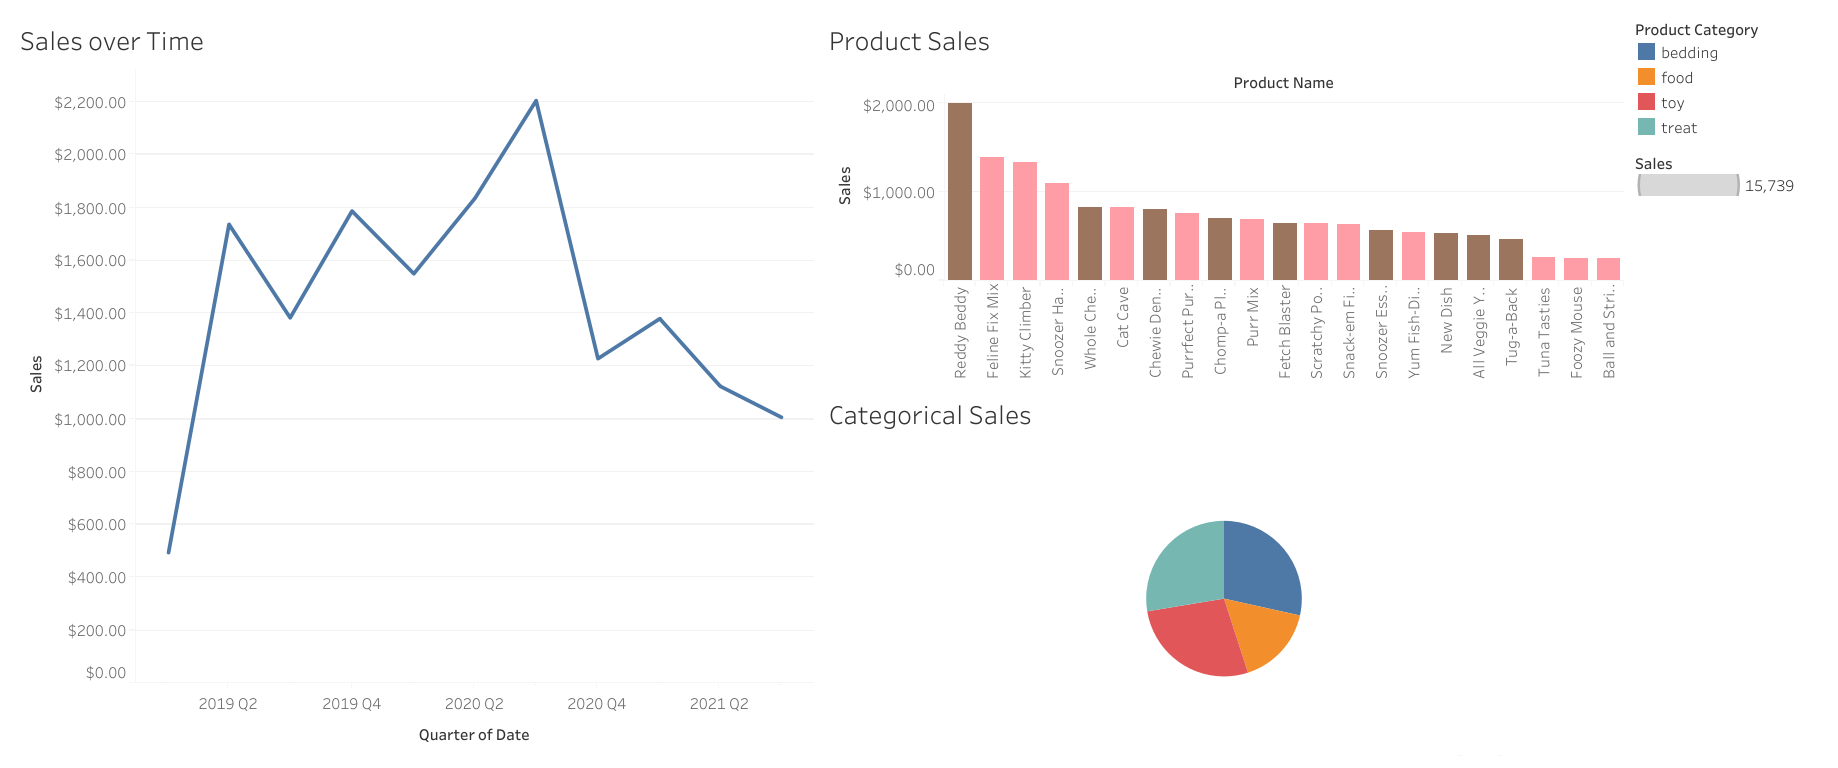

The page's visual inventory and layout, read from the dashboard file:
{"tool":"tableau","page":{"name":"Sales Dashboard","canvas":[1000,1000],"units":"permille","ordinal":0},"visuals":[{"type":"worksheet","title":"Sales over Time","mark":"Automatic","rows":["Sales"],"cols":["Date"],"box":[4.8,10,446.9,980]},{"type":"worksheet","title":"Product Sales","mark":"Automatic","rows":["Sales"],"cols":["Product_Name"],"box":[451.7,10,446.9,490]},{"type":"legend","title":"Categorical Sales","param":"[federated.1k163qb0tk8lsj1665jwf1qxlrsk].[none:Product_Category:nk]","box":[898.6,10,96.6,142.3]},{"type":"legend","title":"Categorical Sales","param":"[federated.1k163qb0tk8lsj1665jwf1qxlrsk].[sum:Sales:qk]","box":[898.6,152.3,96.6,63.7]},{"type":"worksheet","title":"Categorical Sales","mark":"Pie","box":[451.7,500,446.9,490]}]}

Visuals, with their boxes on the dashboard's canvas, which has no fixed pixel size, in thousandths of its width and height (x1, y1, x2, y2). These are canvas units, not pixel positions in the 1838x768 screenshot, which may show the page scaled, cropped or inside an application window:
"Sales over Time" worksheet: x1=5, y1=10, x2=452, y2=990
"Product Sales" worksheet: x1=452, y1=10, x2=899, y2=500
"Categorical Sales" legend: x1=899, y1=10, x2=995, y2=152
"Categorical Sales" legend: x1=899, y1=152, x2=995, y2=216
"Categorical Sales" worksheet (Pie marks): x1=452, y1=500, x2=899, y2=990
